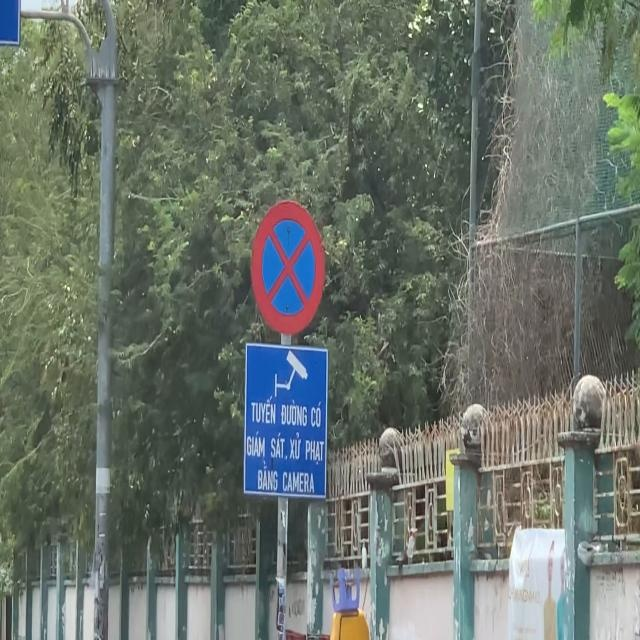bien_cam: (251, 200, 325, 335)
